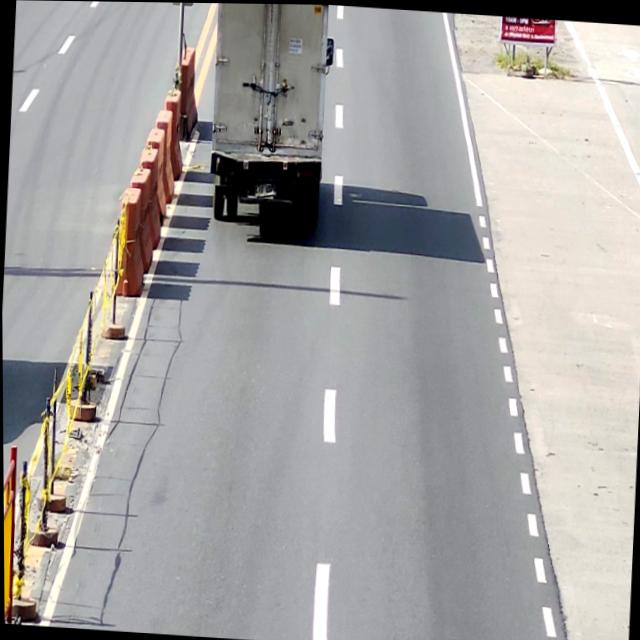License-Plate: (254, 181, 277, 198)
Truck: (205, 2, 338, 229)
